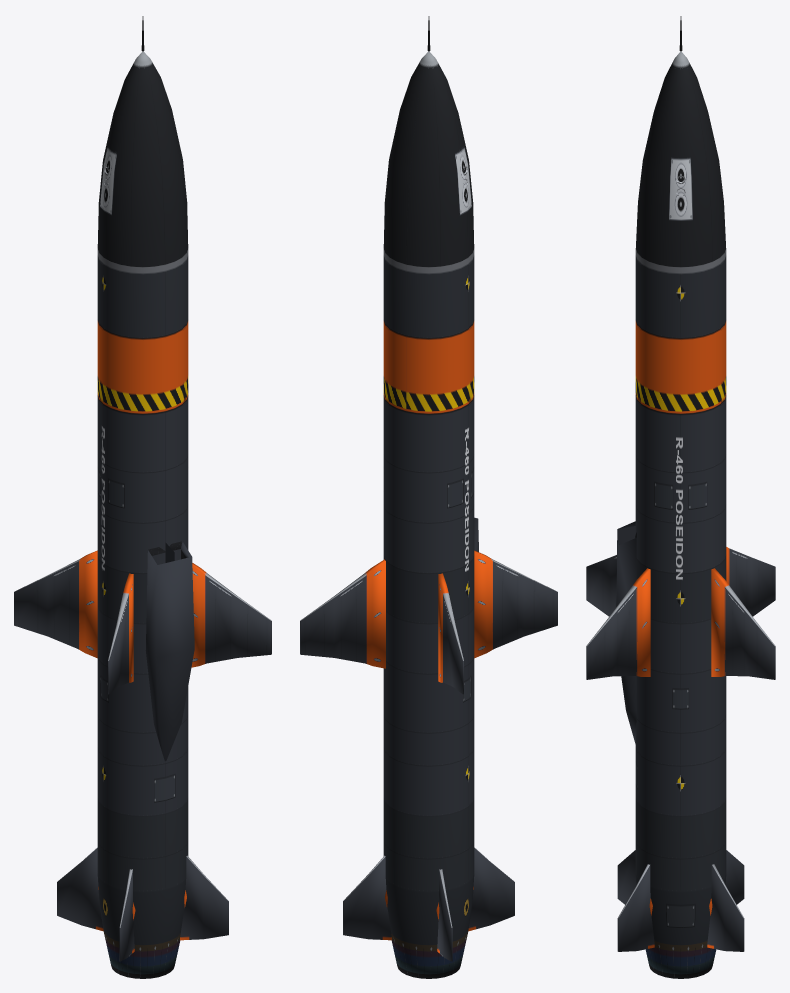
The model's file is R_460_Poseidon.fbx.
3 views of the same model, side by side, from view 1: azimuth 30°, elevation 25°; view 2: azimuth 150°, elevation 25°; view 3: azimuth 270°, elevation 25° (orthographic).
Parts seen in each view (by area): view 1: R460_Poseidon; view 2: R460_Poseidon; view 3: R460_Poseidon.
Part boxes in pixels (bbox=[...]): R460_Poseidon: bbox=[14, 16, 271, 978]; R460_Poseidon: bbox=[300, 16, 557, 978]; R460_Poseidon: bbox=[586, 16, 775, 978].
Size of the model in its own units: 1.02 by 5.67 by 1.02.
